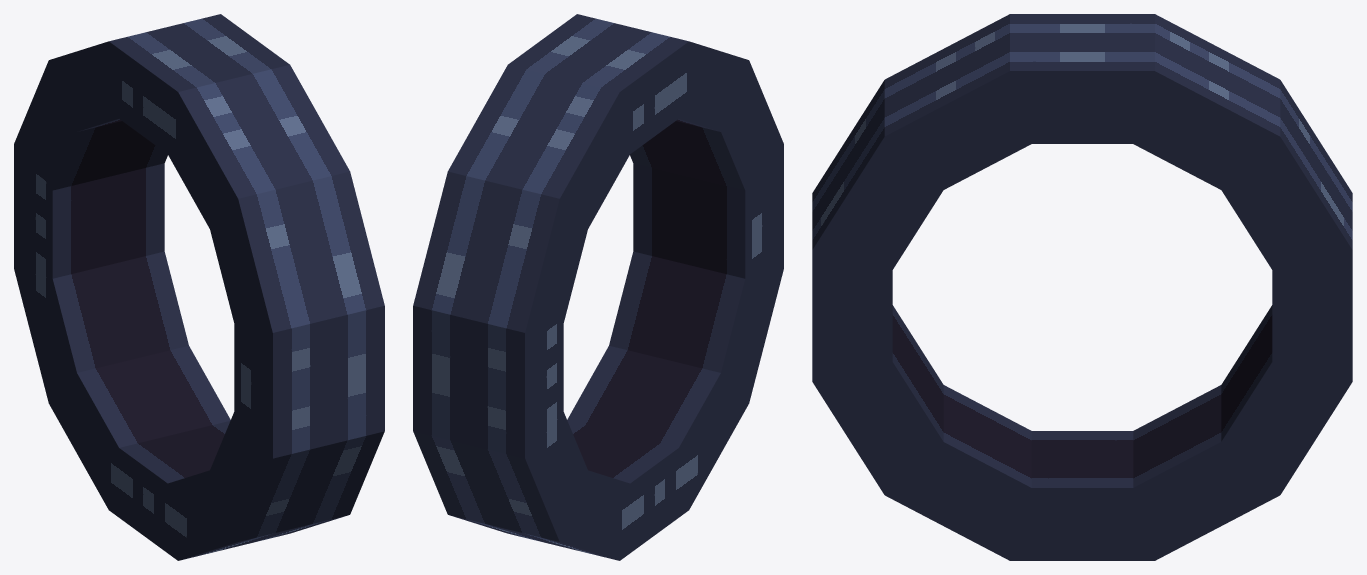
File: Pneu.fbx
3 renders of one model, left to right at view 1: azimuth 30°, elevation 25°; view 2: azimuth 150°, elevation 25°; view 3: azimuth 270°, elevation 25°, orthographic. The views are drawn at different scales.
Visible parts, largest first — view 1: tube; view 2: tube; view 3: tube.
Part boxes in pixels (bbox=[...]): tube: bbox=[14, 14, 384, 560]; tube: bbox=[413, 14, 783, 560]; tube: bbox=[812, 14, 1352, 560].
Bounding box in the file's own units: 18.75 × 75 × 75.
1 material, 1 textured.
